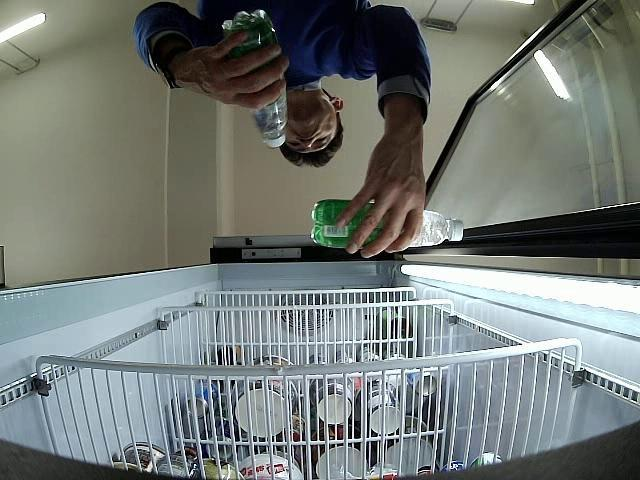18_trevi: (220, 10, 286, 146), (312, 200, 462, 250)
